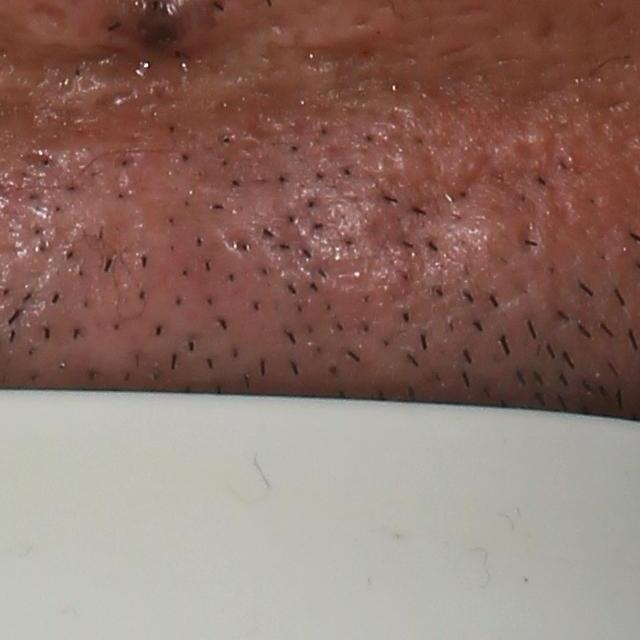atrophic_scar: (364, 141, 546, 278), (211, 85, 307, 145), (36, 40, 139, 94), (305, 37, 379, 79), (213, 221, 256, 258), (26, 0, 67, 33)
hypertrophic_scar: (38, 127, 139, 253), (263, 13, 396, 54)
